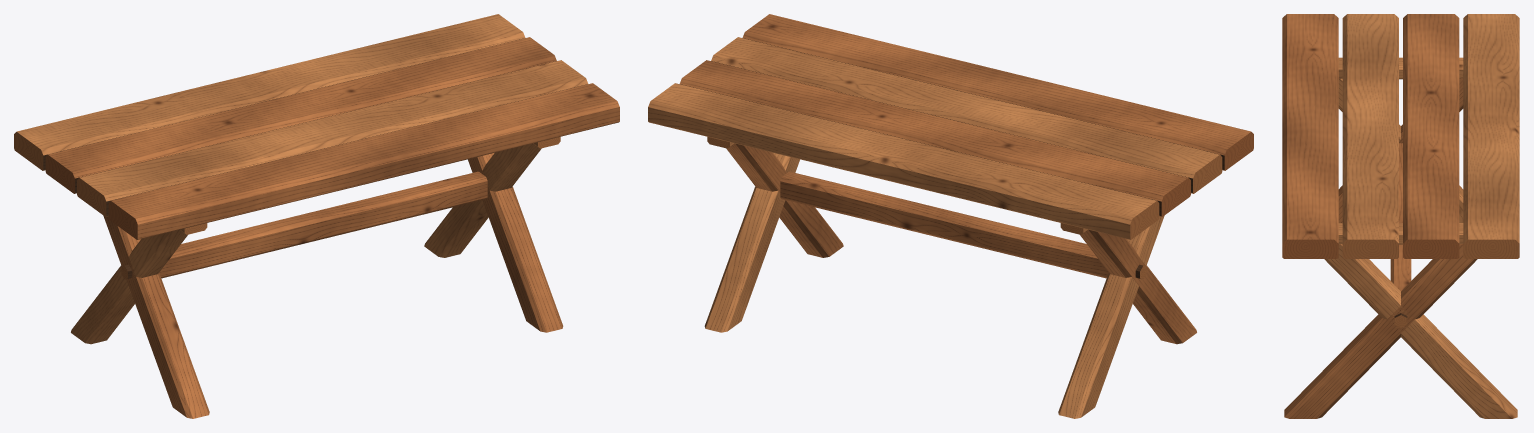
Rendered from FMS_Deco_Table_Plank.fbx.
3 renders of one model, left to right at view 1: azimuth 30°, elevation 25°; view 2: azimuth 150°, elevation 25°; view 3: azimuth 270°, elevation 25°, orthographic. The views are drawn at different scales.
Visible parts, largest first — view 1: item_decor_table_plank; view 2: item_decor_table_plank; view 3: item_decor_table_plank.
Part boxes in pixels (bbox=[...]): item_decor_table_plank: bbox=[14, 14, 619, 418]; item_decor_table_plank: bbox=[648, 14, 1253, 418]; item_decor_table_plank: bbox=[1282, 14, 1519, 418].
Size of the model in its own units: 1.8 by 0.76 by 0.8.
